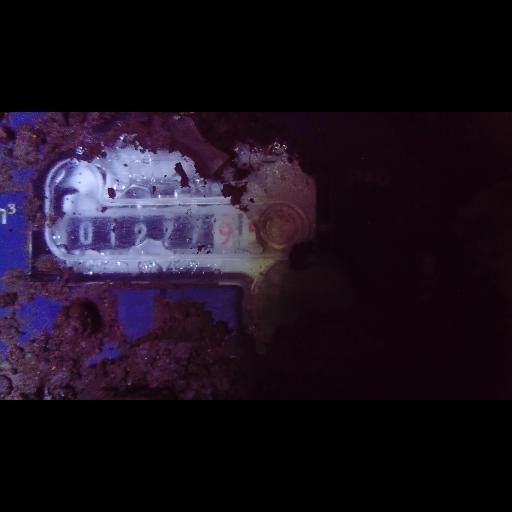0: (74, 216, 98, 250)
1: (103, 217, 123, 250)
2: (130, 216, 151, 250)
5: (242, 214, 264, 248)
7: (185, 214, 207, 248), (157, 216, 179, 249)
9: (214, 214, 237, 249)
border_water_meter_number: (45, 203, 307, 262)
